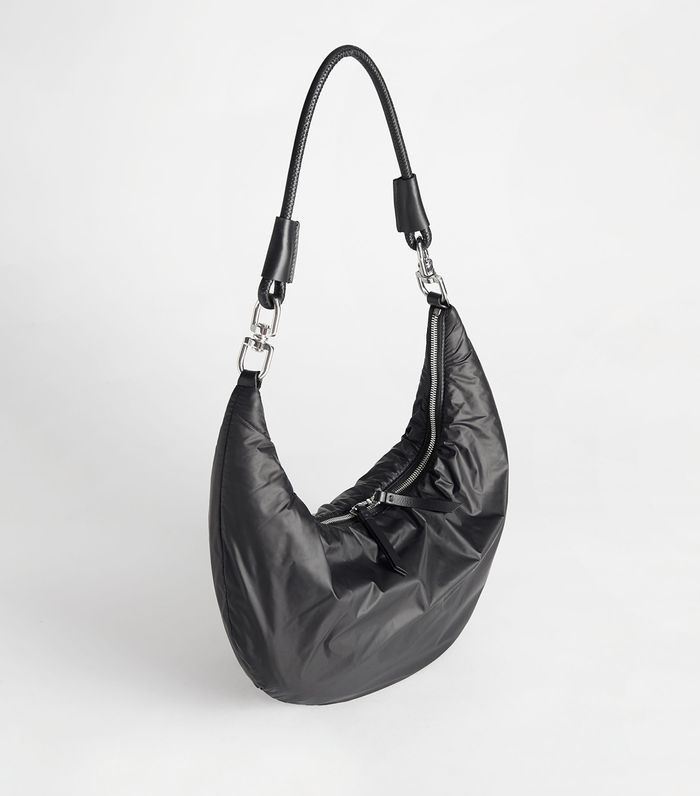nylon: (206, 292, 510, 706)
